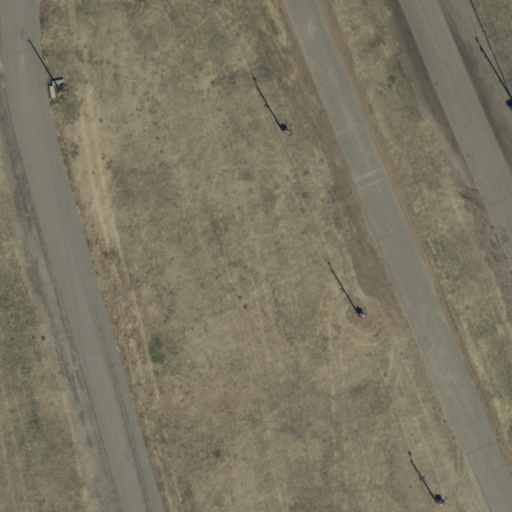DT: (42, 75, 75, 104), (345, 296, 372, 329), (273, 116, 297, 146), (427, 483, 453, 510)
